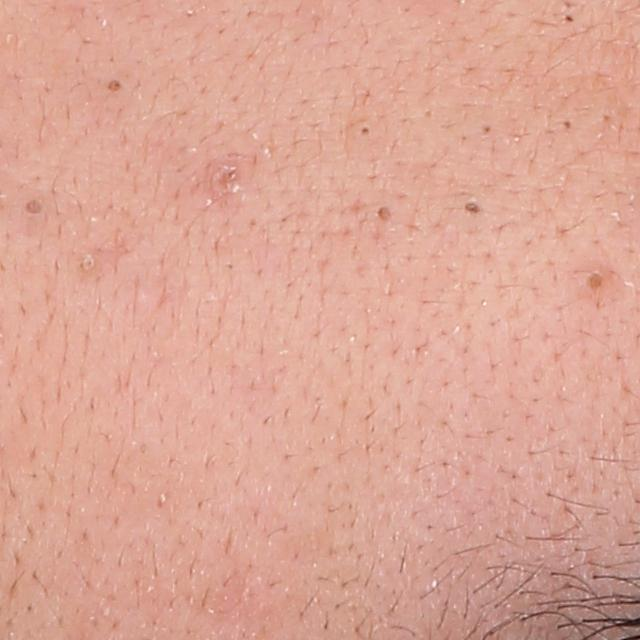comedo: (215, 165, 237, 189), (21, 197, 46, 217), (104, 76, 124, 96), (80, 253, 97, 276), (465, 200, 482, 220), (561, 117, 576, 132)
